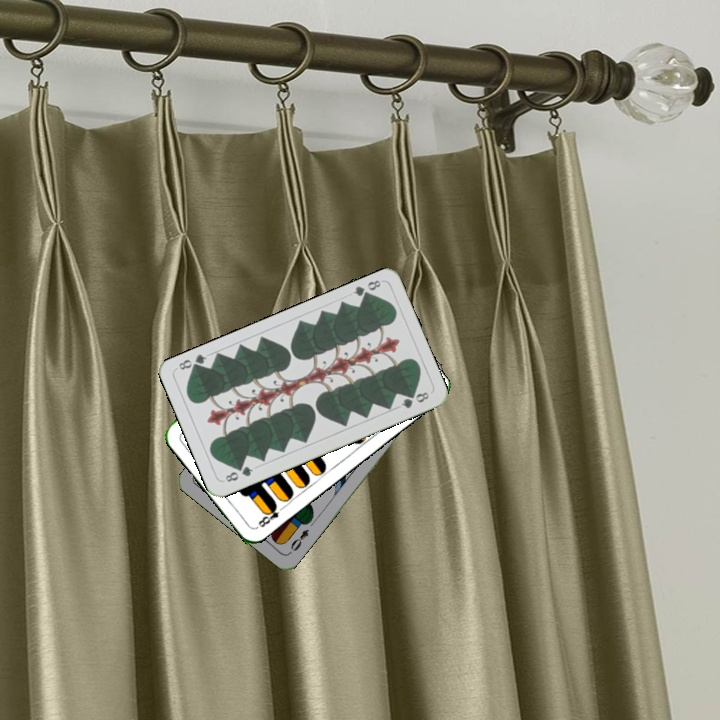E8: (252, 500, 287, 531)
EO: (286, 525, 312, 554)
G8: (349, 276, 383, 302), (221, 462, 256, 485)
